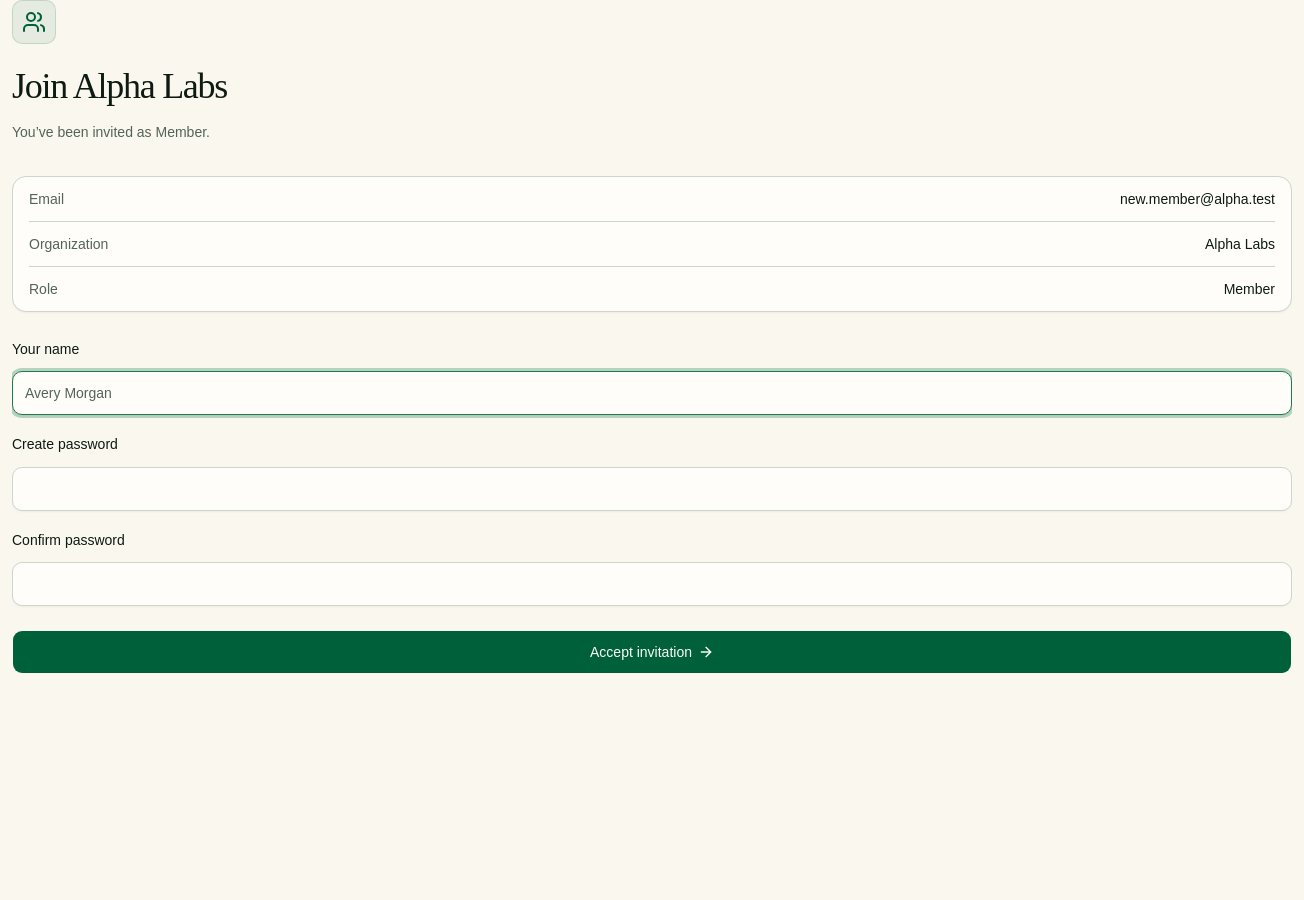
Test: AcceptInvitationPage › creates an account when the invited email is new
Expected: the heading "Join Alpha Labs" is shown, [12,66,227,106]
Step 1. Type "New Member" into the field labelled "Your name" → (652, 393), box [12,371,1292,415]
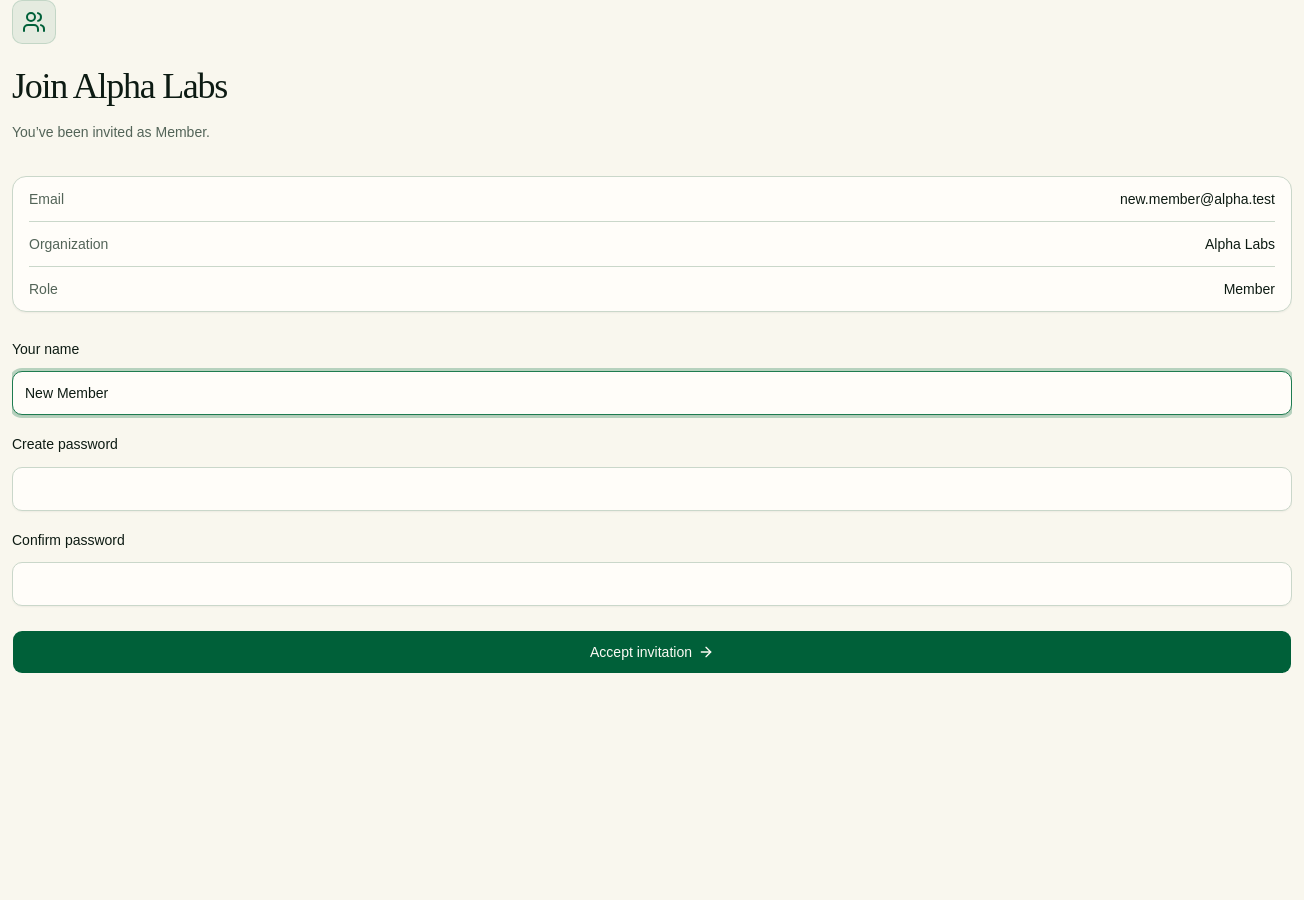
Step 2. Type "correct horse battery staple" into the password field labelled "Create password" → (652, 488), box [12,466,1292,510]
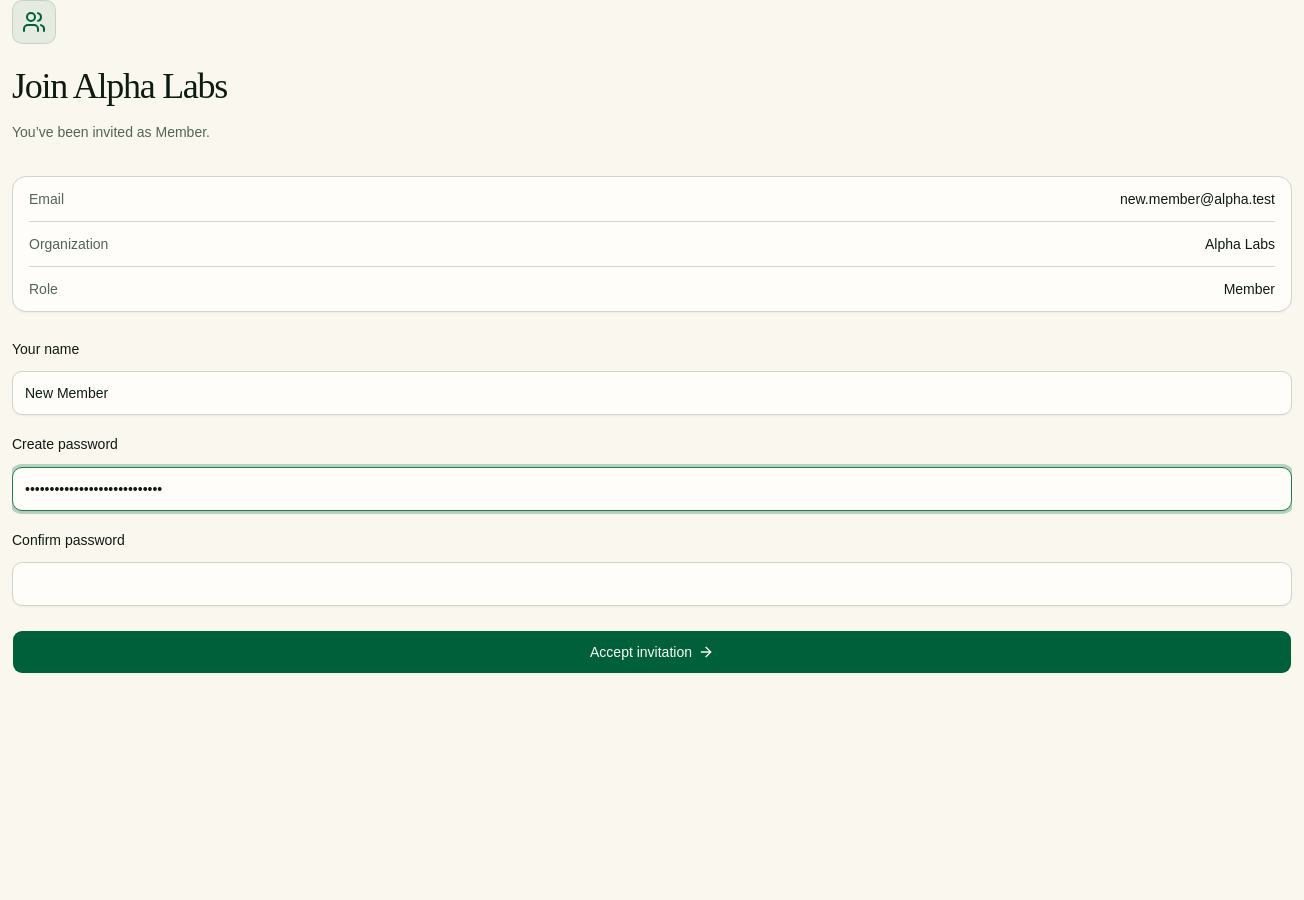
Step 3. Type "correct horse battery staple" into the password field labelled "Confirm password" → (652, 584), box [12,562,1292,606]
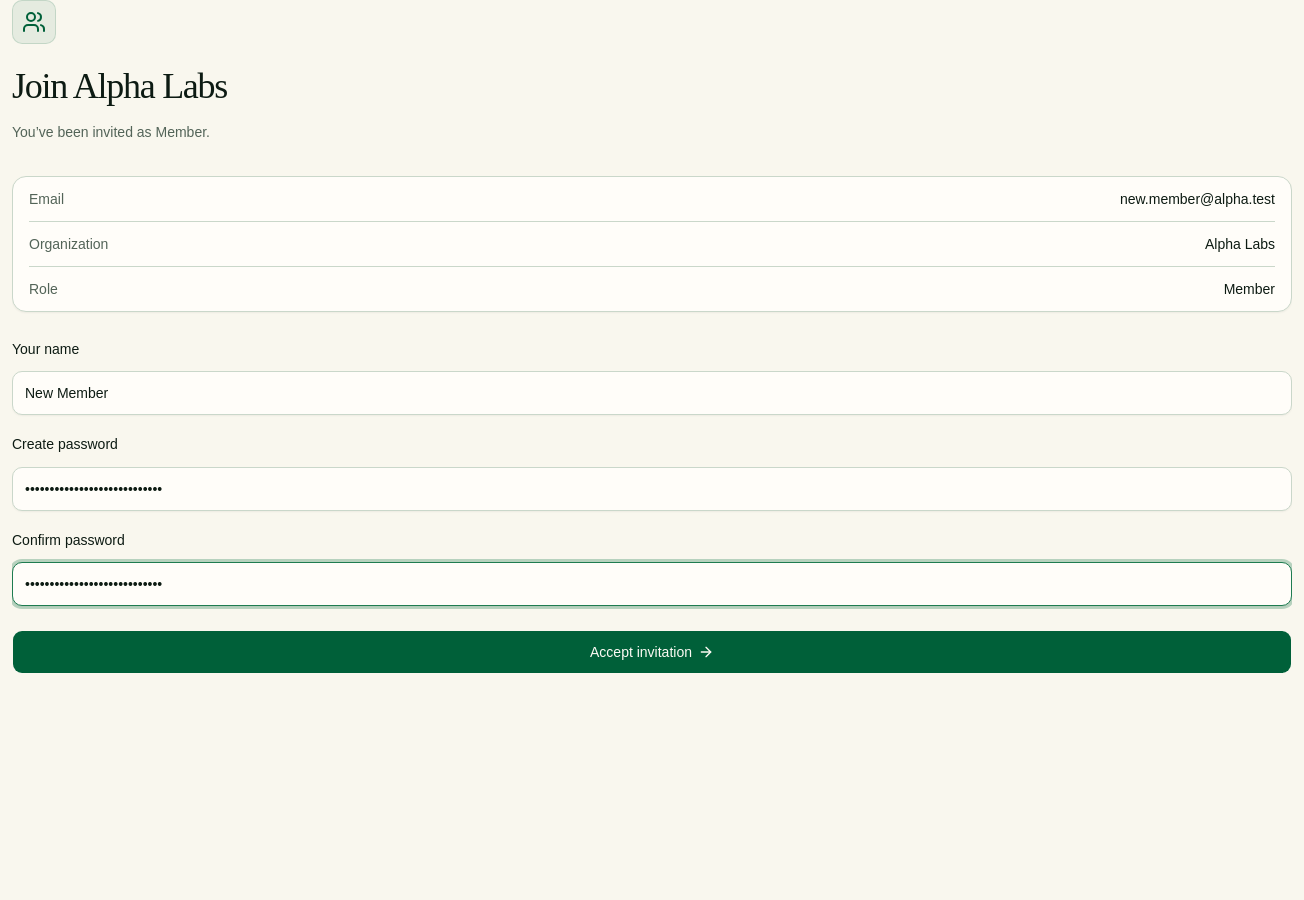
Step 4. Click the button "Accept invitation" → (652, 652), box [12,630,1292,674]
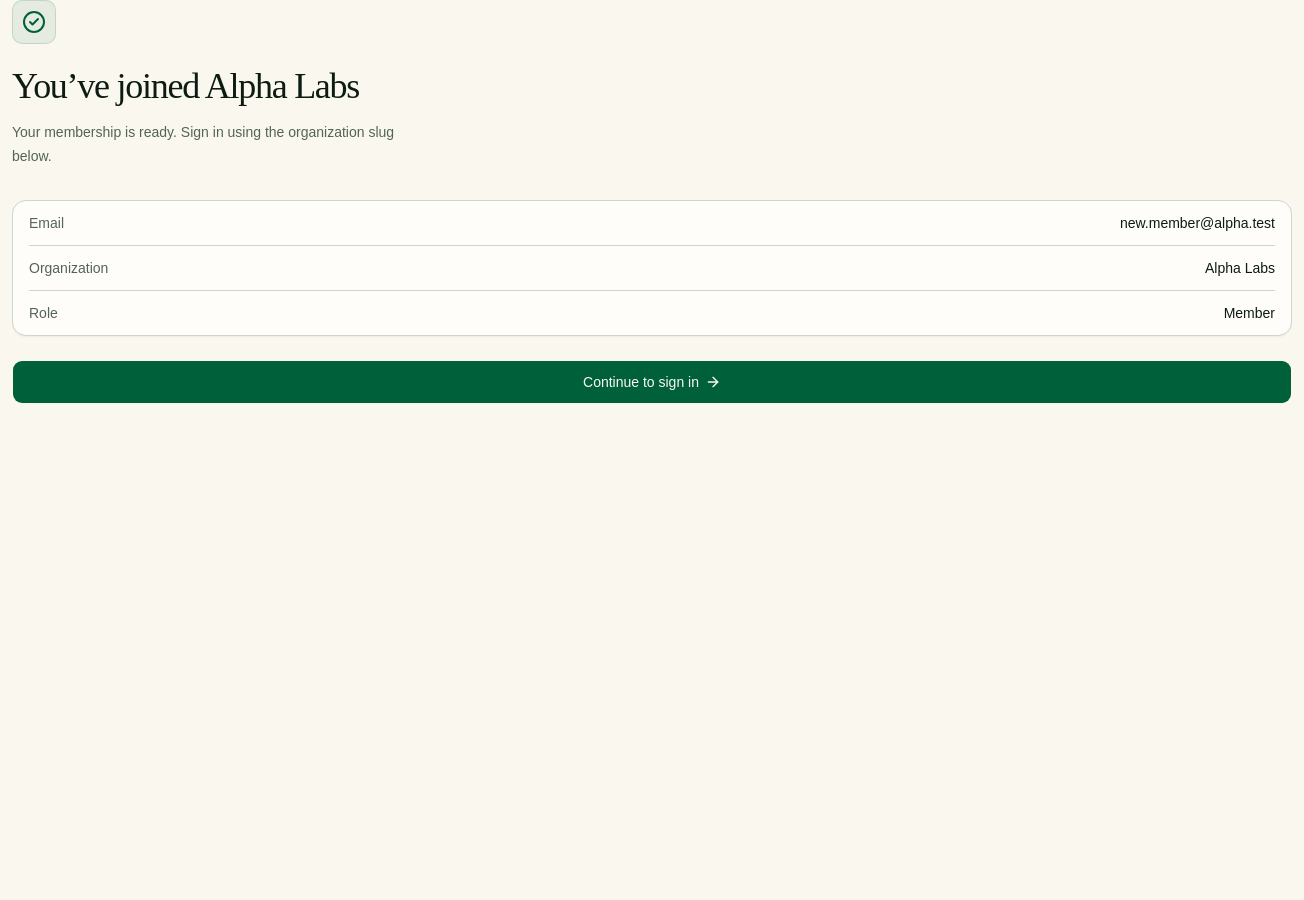
Expected: the heading "You’ve joined Alpha Labs" is shown, [12,66,359,106]
